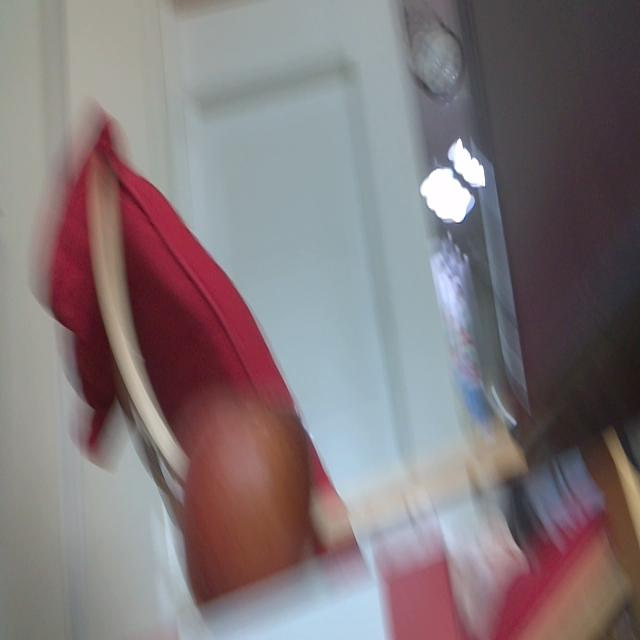apple: (183, 388, 310, 599)
